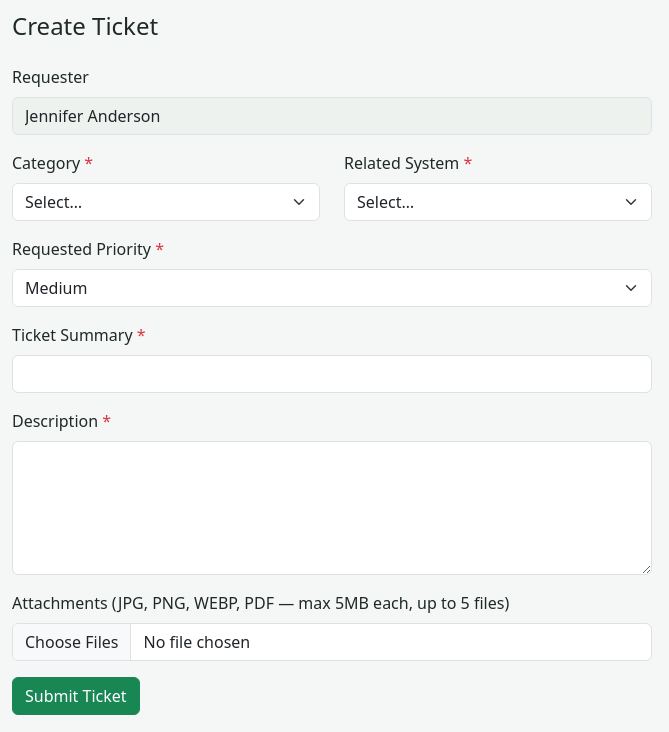
Test: CreateTicket (UI-03) › shows the generated Ticket Number on success (UI happy path)
Type "Laptop battery drains quickly" into the field labelled "Ticket Summary *" at (332, 374), box x1=12 y1=355 x2=652 y2=393
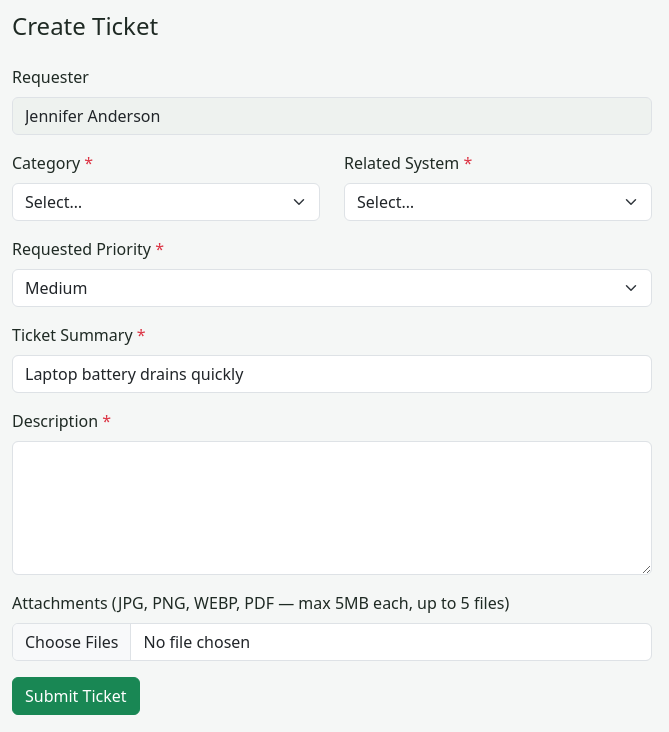
Type "This is a sufficiently long description." into the text box labelled "Description *" at (332, 508), box x1=12 y1=441 x2=652 y2=575
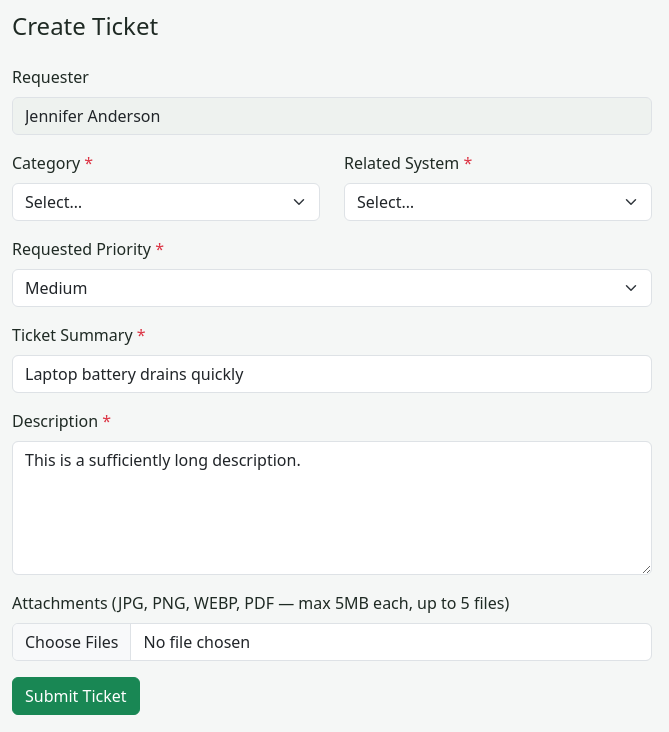
Select "Hardware" in the dropdown labelled "Category *" at (166, 202), box x1=12 y1=183 x2=320 y2=221
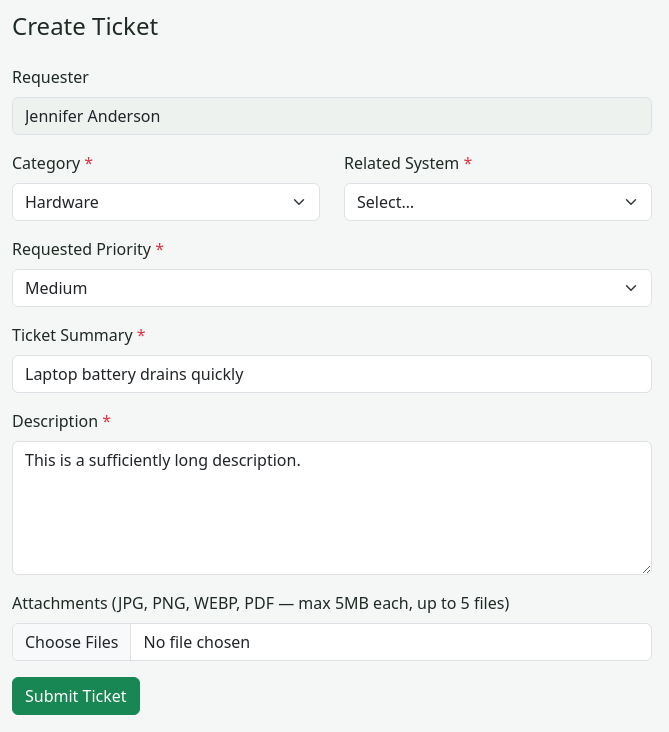
Select "Corporate Laptop" in the dropdown labelled "Related System *" at (498, 202), box x1=344 y1=183 x2=652 y2=221
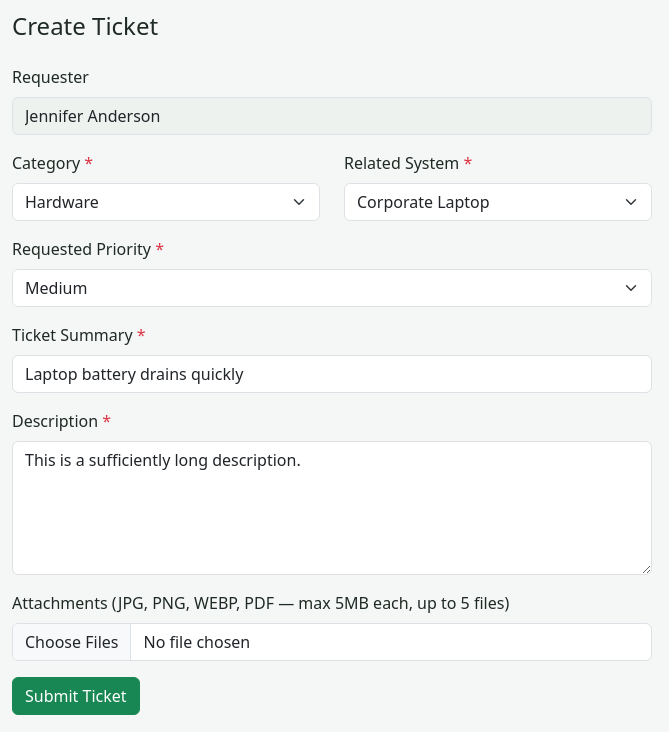
Click the button "Submit Ticket" at (76, 696), box x1=12 y1=677 x2=140 y2=715
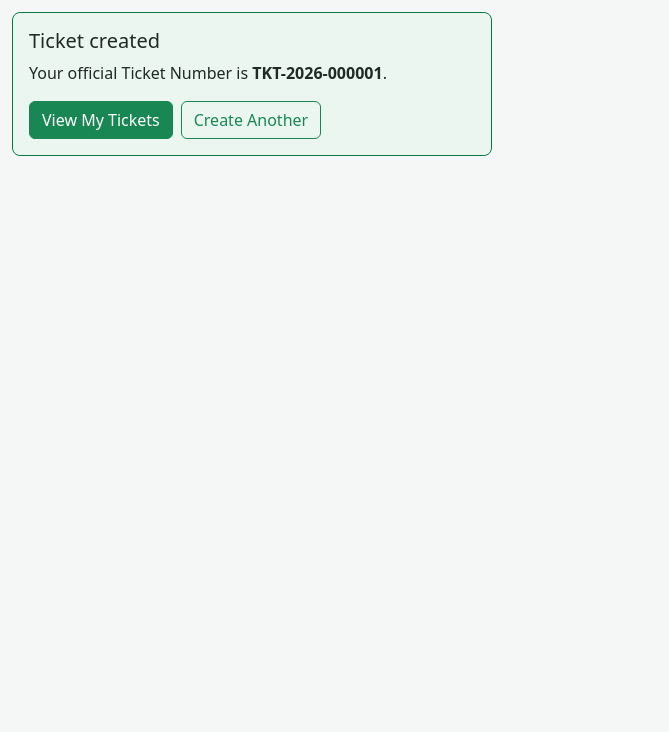
Result: the text "TKT-2026-000001" is shown at x1=252 y1=62 x2=383 y2=84
